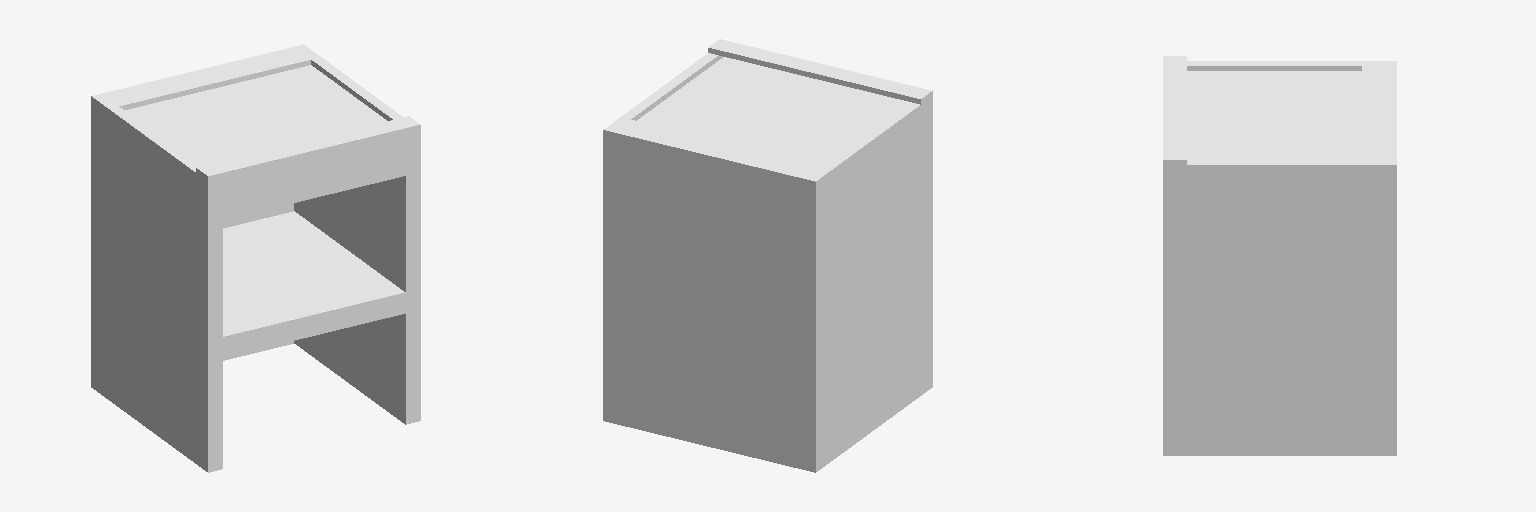
Rendered from TackJa.obj.
The picture shows the model from 3 angles: view 1: azimuth 30°, elevation 25°; view 2: azimuth 150°, elevation 25°; view 3: azimuth 270°, elevation 25°; orthographic projection.
Visible parts, largest first — view 1: object 1; view 2: object 1; view 3: object 1.
Part boxes in pixels (bbox=[...]): object 1: bbox=[91, 44, 420, 472]; object 1: bbox=[603, 39, 932, 472]; object 1: bbox=[1163, 56, 1396, 455].
Size of the model in its own units: 4.2 by 5.6 by 4.